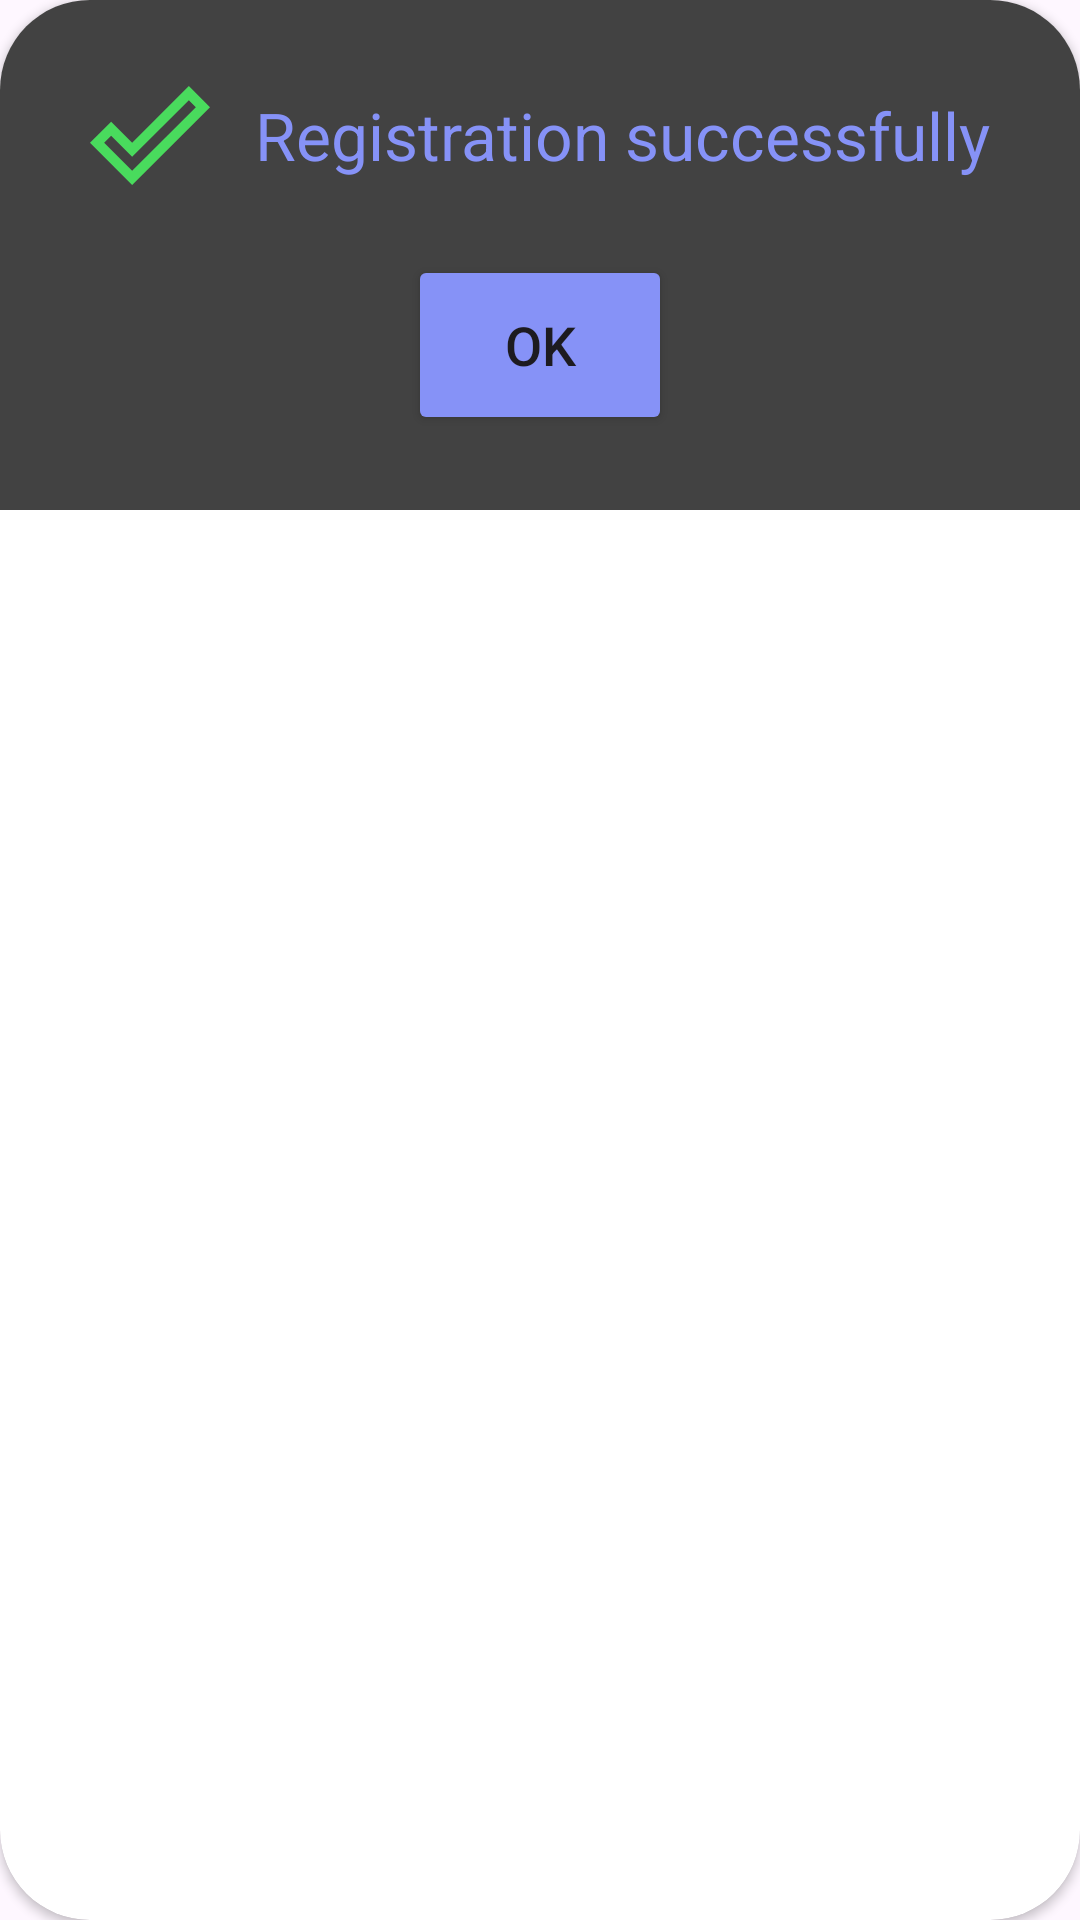

Where to tap for icons on this 1080x1920 app screen, as (x=x, y=y):
done: (x=150, y=135)
